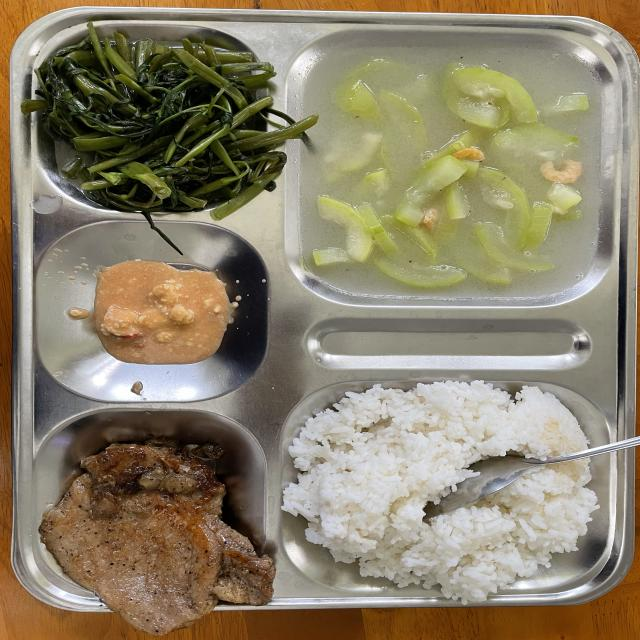canh_cai: (55, 55, 256, 188)
